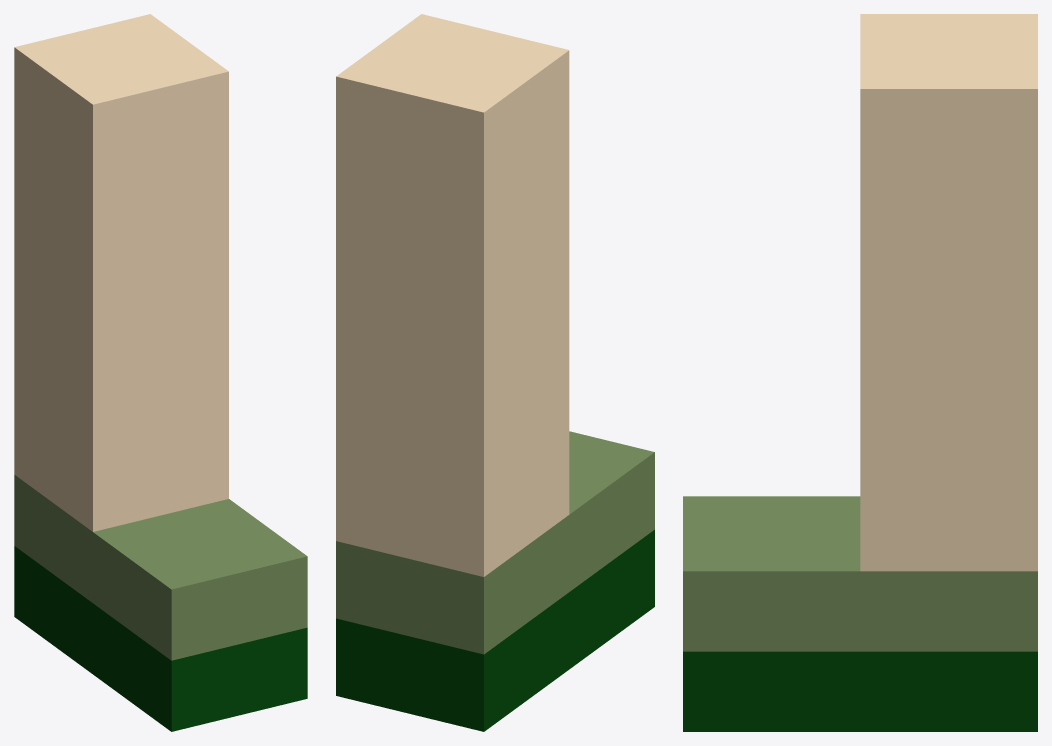
Rendered from ririfa-5.obj.
The picture shows the model from 3 angles, left to right: view 1: azimuth 30°, elevation 25°; view 2: azimuth 150°, elevation 25°; view 3: azimuth 270°, elevation 25°; orthographic projection. The views are drawn at different scales.
Visible parts, largest first — view 1: ririfa-5; view 2: ririfa-5; view 3: ririfa-5.
Boxes of the visible parts, x1=… form: ririfa-5: x1=14, y1=14, x2=307, y2=731; ririfa-5: x1=336, y1=14, x2=654, y2=731; ririfa-5: x1=683, y1=14, x2=1037, y2=731.
Bounding box in the file's own units: 2 × 8 × 4.
1 material, 1 textured.
